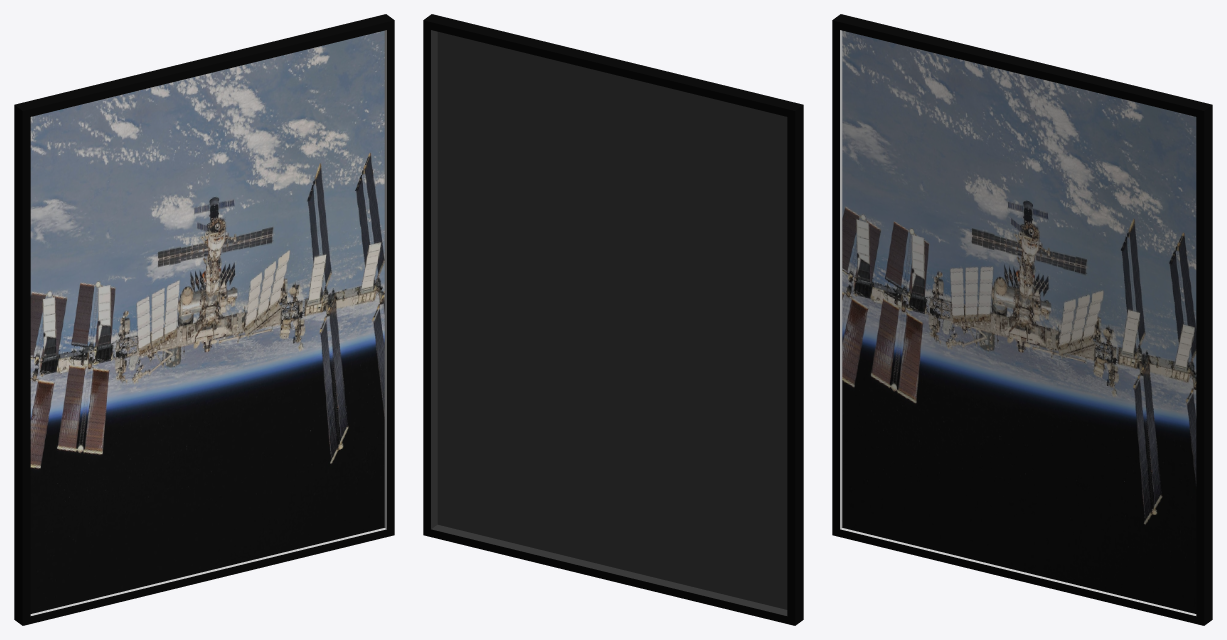
Rendered from frame_7.gltf.
3 views of the same model, side by side, from view 1: azimuth 30°, elevation 25°; view 2: azimuth 150°, elevation 25°; view 3: azimuth 330°, elevation 25° (orthographic).
Parts seen in each view (by area): view 1: Material3 (×2), Material2; view 2: Material3, Material2; view 3: Material3 (×2), Material2.
Part boxes in pixels (left/top/right/bottom): Material3 (×2): left=30, top=30, right=386, bottom=615; Material2: left=14, top=14, right=394, bottom=625; Material3: left=431, top=30, right=787, bottom=615; Material2: left=423, top=14, right=803, bottom=625; Material3 (×2): left=840, top=30, right=1196, bottom=615; Material2: left=832, top=14, right=1212, bottom=625.
Size of what is drawn, in the model's own units: 24.95 by 33 by 1.
4 materials, 1 textured.
